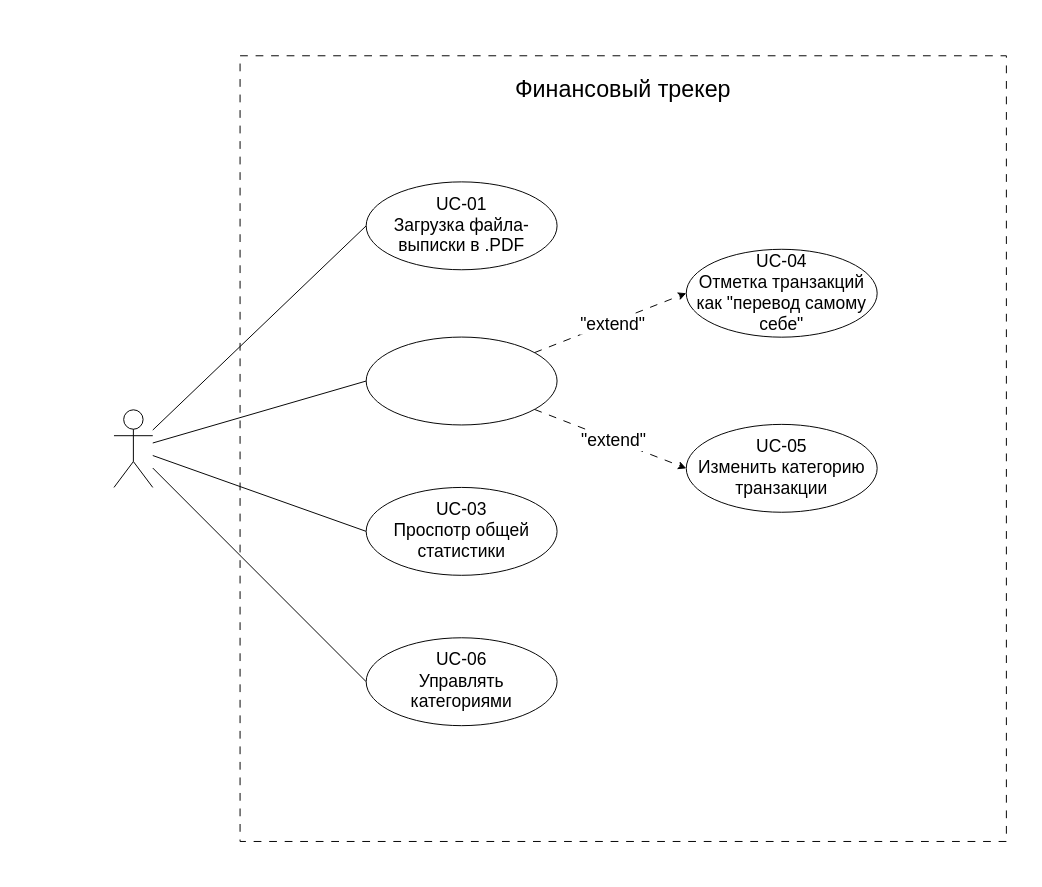
Some shapes in this 1042 by 887 pixel diagram are drawn without their labels. Each missing label, with the box of its shape:
UC-02 Просмотр списка транзакций: (365, 336, 557, 425)
Пользователь: (113, 409, 153, 487)
